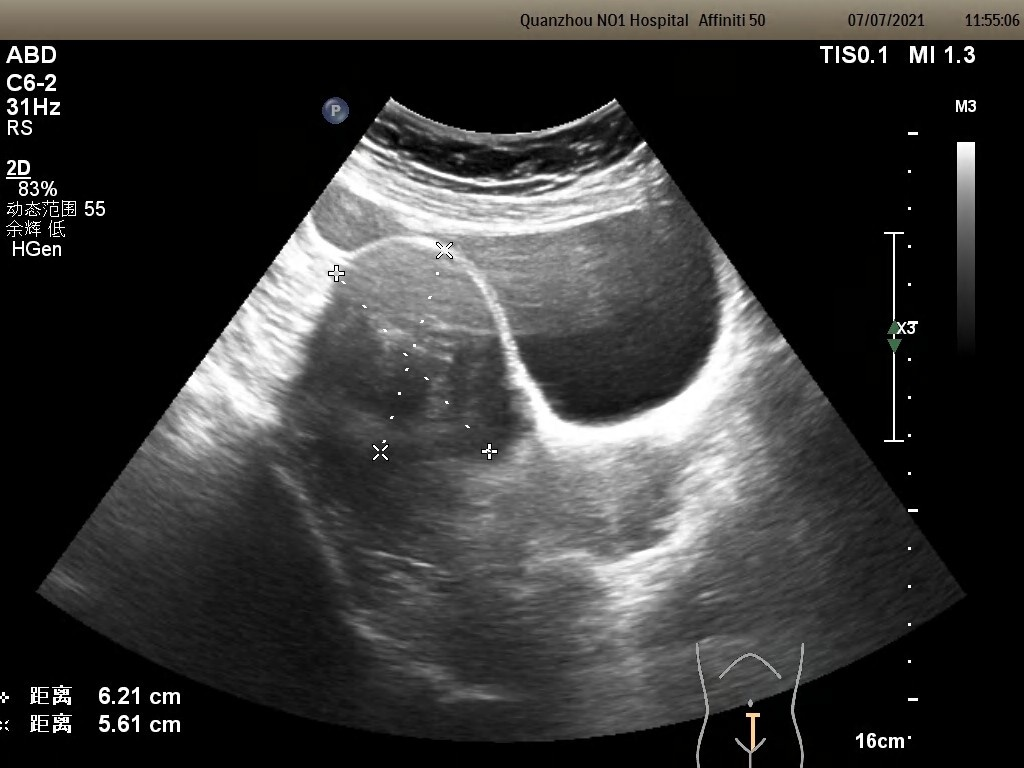肌瘤: (338, 248, 499, 457)
